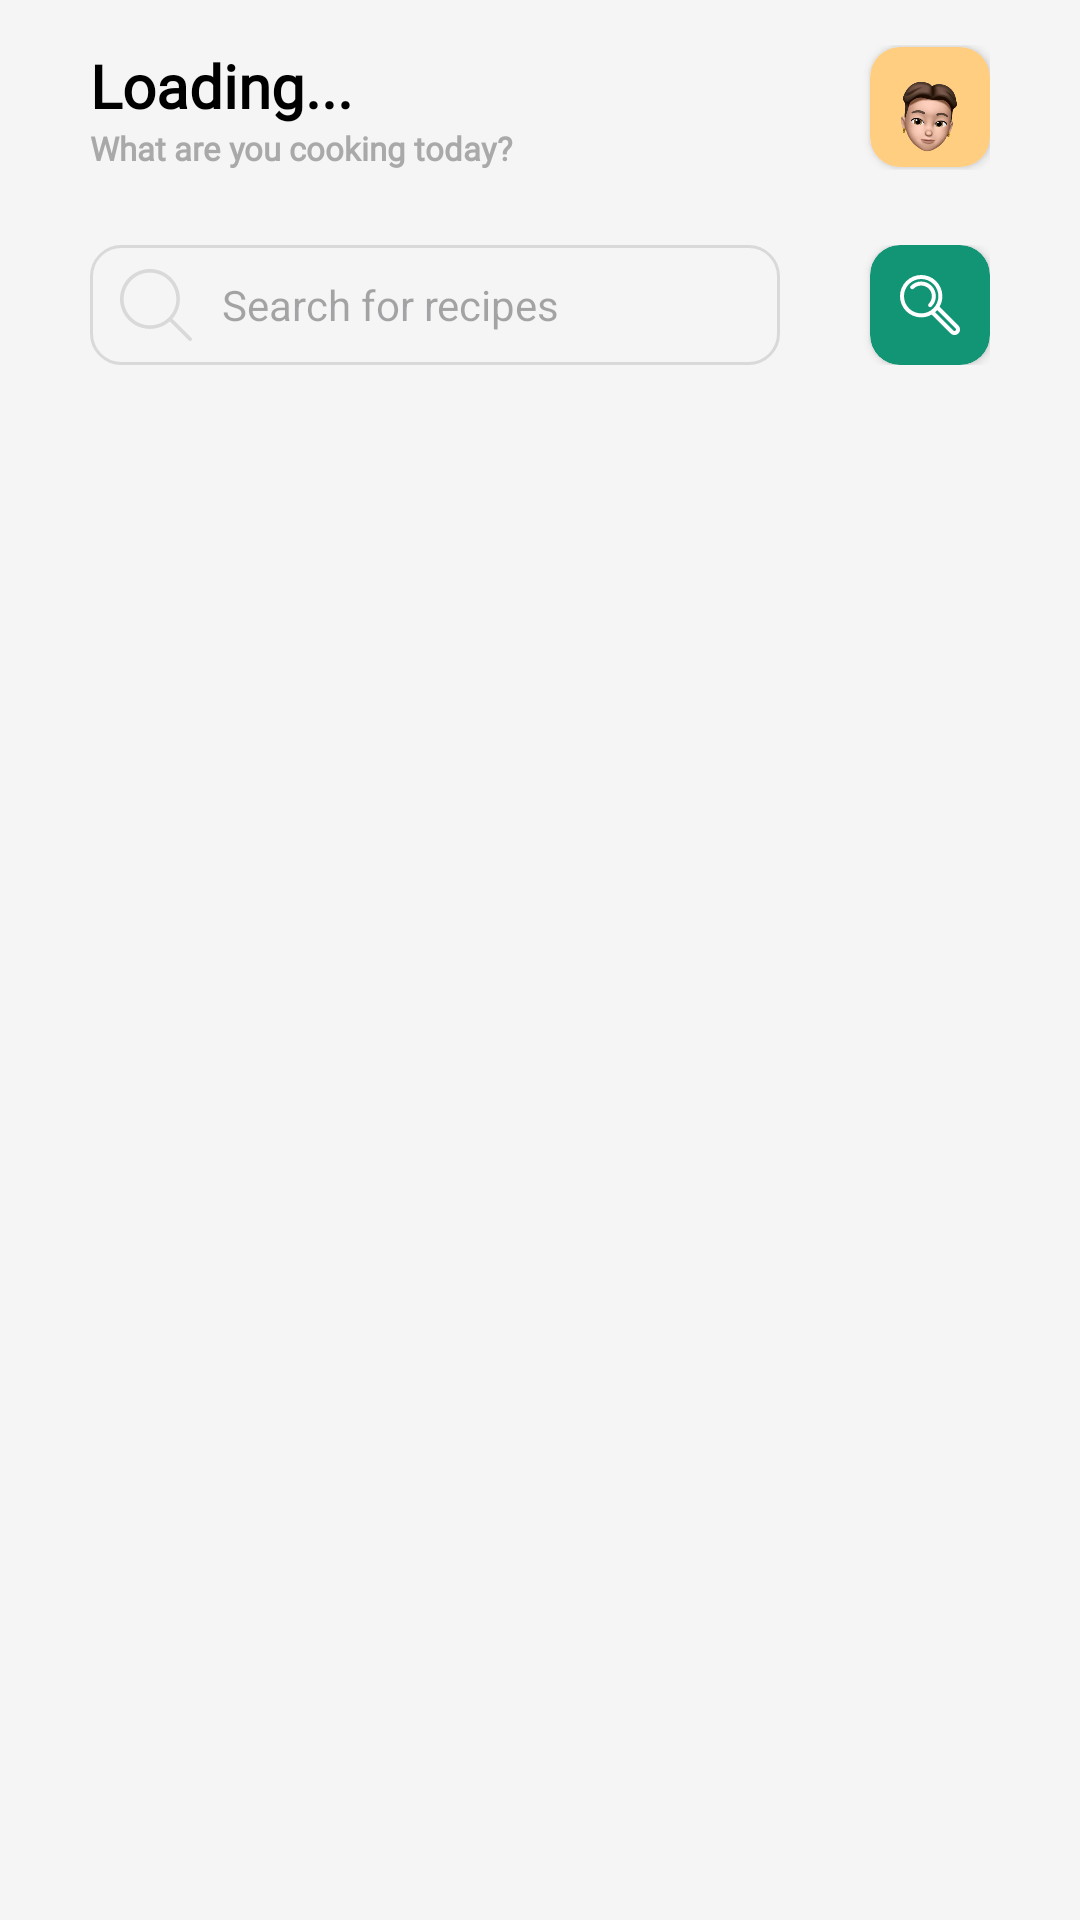

Where icons sit on this 1080 x 1920 app screen, as (x1, y1, x2, y2):
search: (900, 275, 960, 335)
